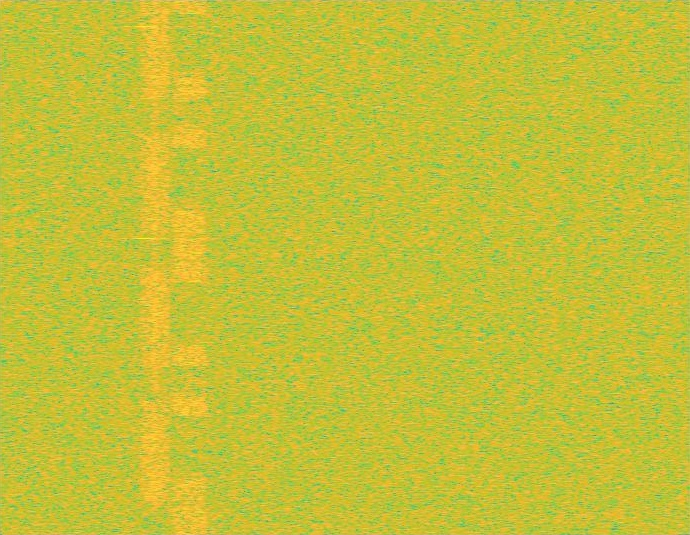5G: (138, 0, 173, 534)
DSSS: (151, 0, 159, 534)
LTE: (173, 0, 207, 534)
Radar: (138, 0, 152, 534)
